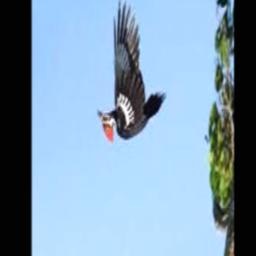Woodpecker: (97, 0, 167, 145)
